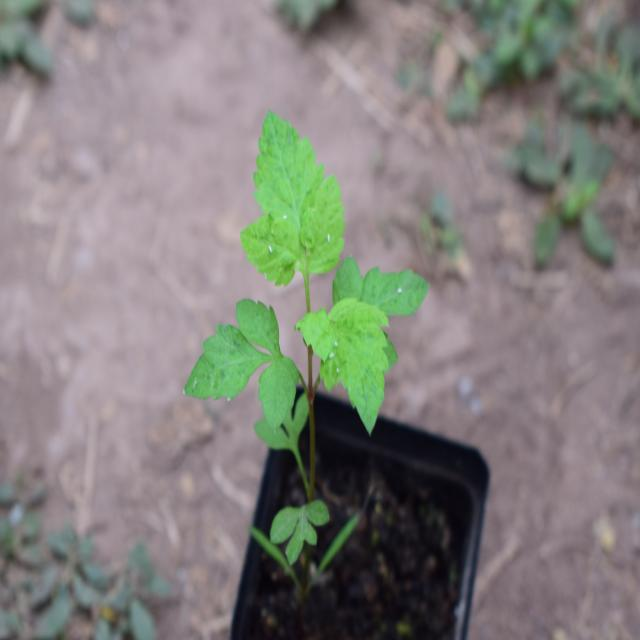Bidens pilosa: (182, 120, 429, 457)
